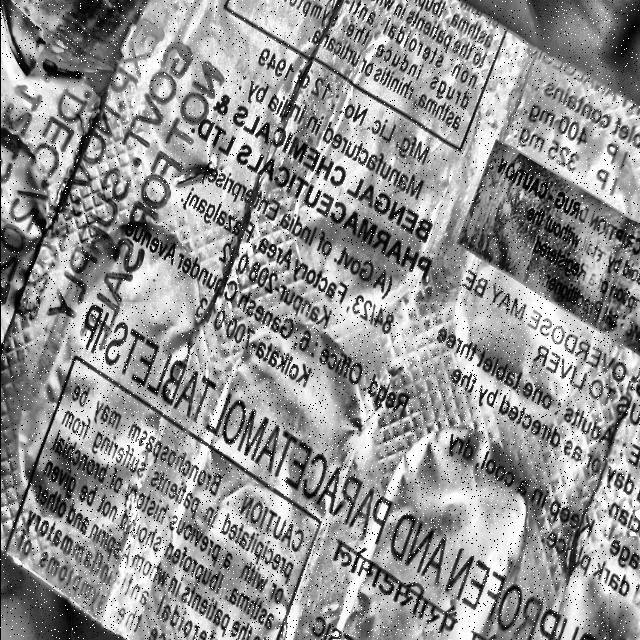IBUPROFEN AND PARACETAMOL TABLETS: (70, 302, 607, 640)
